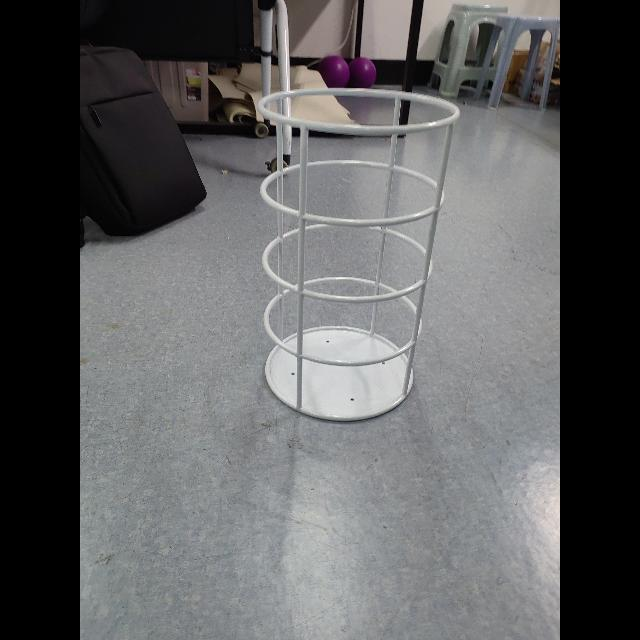S: (253, 86, 463, 428)
